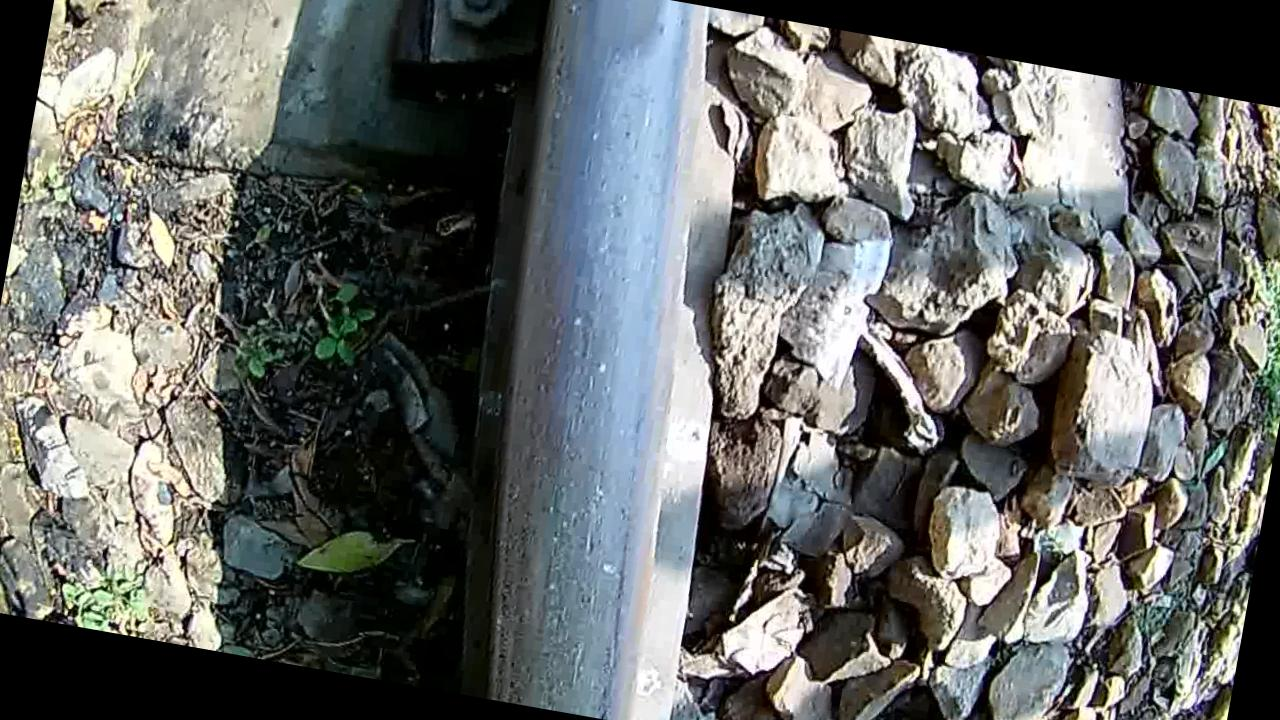bolt_missing: (521, 0, 704, 116)
